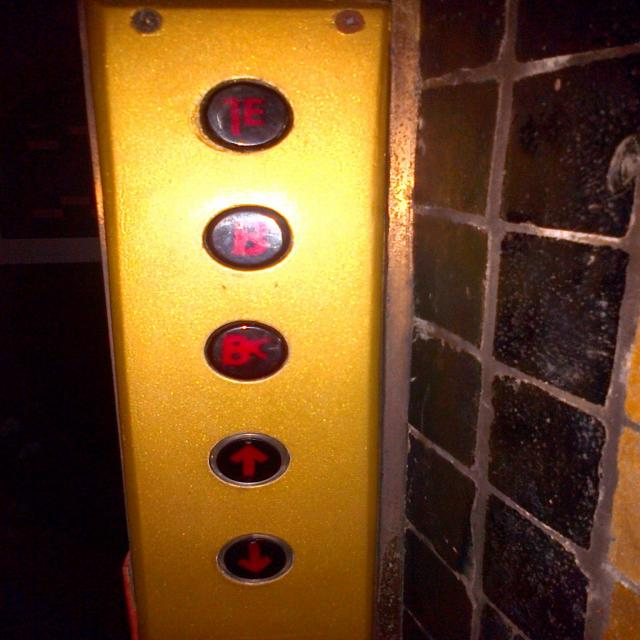1E: (196, 76, 296, 155)
B: (200, 203, 296, 272)
BC: (200, 320, 296, 382)
down: (214, 533, 296, 583)
up: (206, 432, 290, 487)
